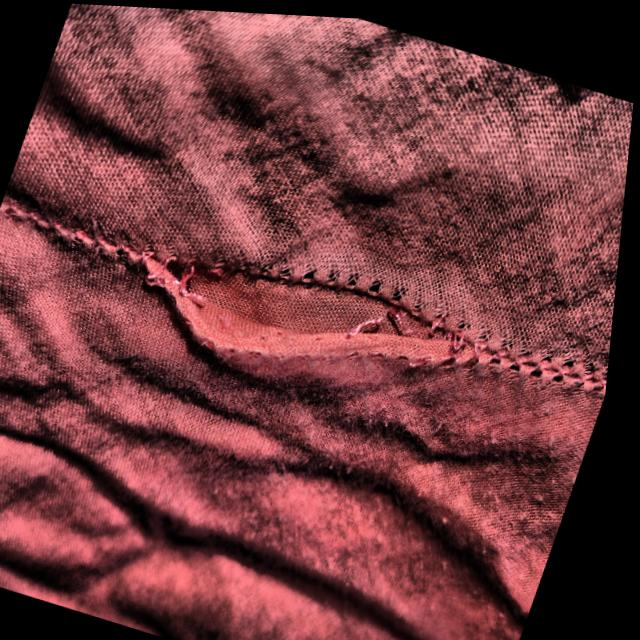seam: (63, 176, 527, 454)
